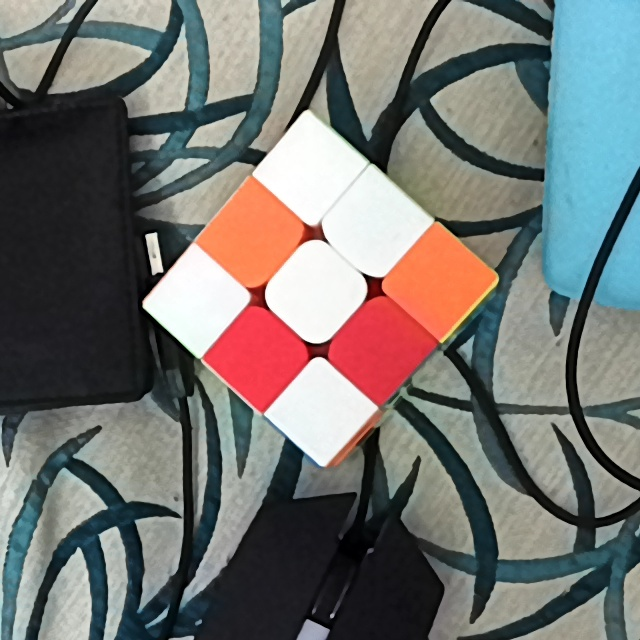tile: (354, 317, 410, 378), (285, 263, 343, 321), (347, 194, 401, 253), (415, 252, 470, 309), (170, 272, 223, 329), (296, 382, 349, 439), (222, 212, 279, 264), (282, 139, 333, 197), (234, 330, 286, 386)
